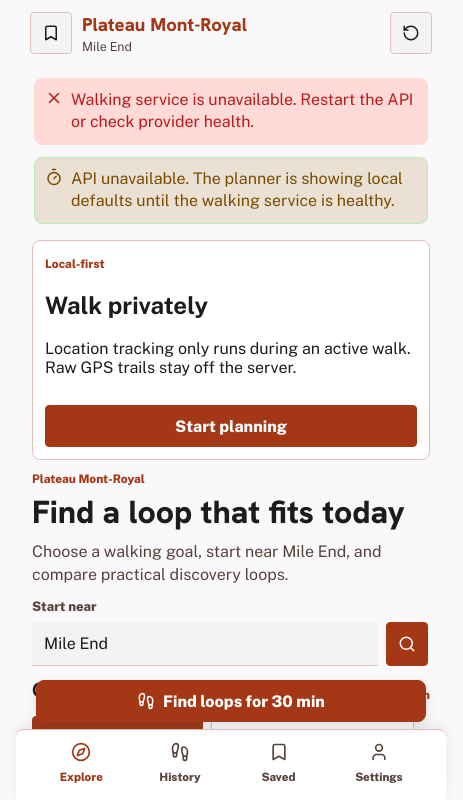
Test case: App › shows a service outage instead of raw parse errors for empty API failures
Check: the text "Walking service is unavailable" is shown, box [71,90,413,131]
Click the button "Find loops for 30 min" at point(231, 701), box [36,680,426,722]
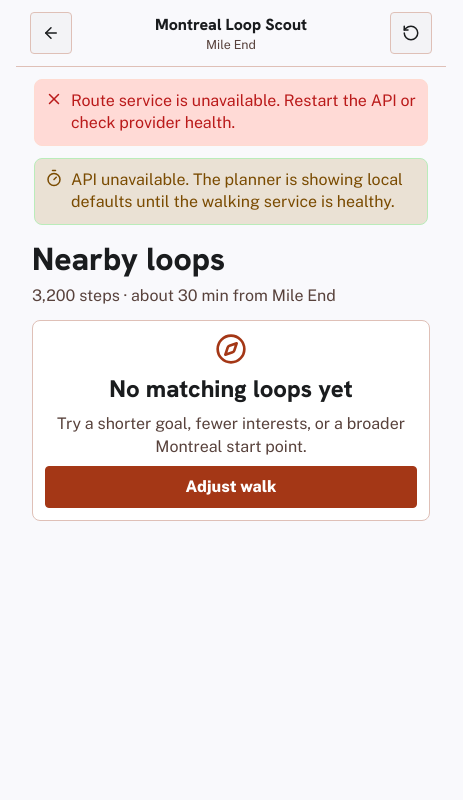
Check: the text "Route service is unavailable" is shown, box [71,91,416,132]
